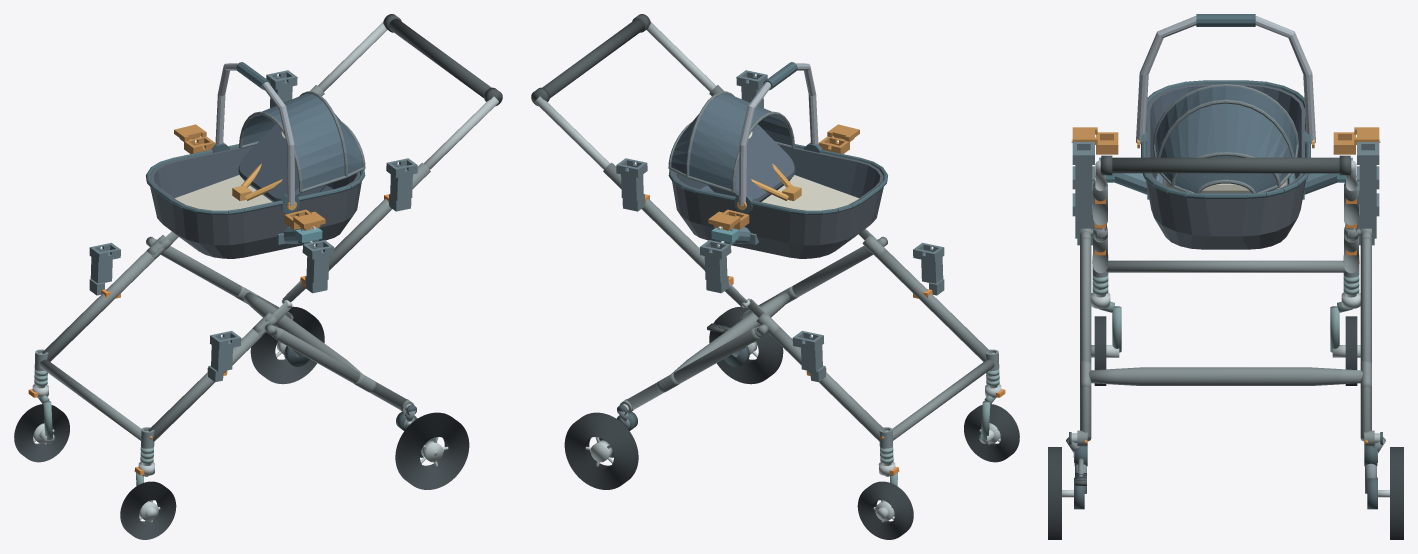
File: S07_w650_state1_wheel_S.glb
3 views of the same model, side by side, from view 1: azimuth 30°, elevation 25°; view 2: azimuth 150°, elevation 25°; view 3: azimuth 270°, elevation 25° (orthographic). The views are drawn at different scales.
Visible parts, largest first — view 1: S07_Cabin, RL_tire.008, RR_tire.008, FL_tire.008, FR_tire.008, main_lower_1.009, round_handle.008, V46_rear_leg_-1.009, main_lower_-1.009, front_fixed_round_tube.008, main_upper_-1.009, V46_rearbar.009 (+11 smaller); view 2: S07_Cabin, RR_tire.008, FR_tire.008, RL_tire.008, FL_tire.008, main_lower_-1.009, round_handle.008, V46_rear_leg_1.009, main_lower_1.009, front_fixed_round_tube.008, main_upper_1.009, V46_rearbar.009 (+11 smaller); view 3: S07_Cabin, V46_rearbar.009, round_handle.008, front_fixed_round_tube.008, V46_rear_leg_1.009, V46_rear_leg_-1.009, S07_Cabin_Mount_M, RL_tire.008, RR_tire.008, Universal_Cabin_Receiver_H_1, Universal_Cabin_Receiver_H_-1, D02_WideAdapter_M_-1 (+9 smaller).
Part boxes in pixels (box(x1,y1,x2,y2)): S07_Cabin: box(146, 62, 365, 258); RL_tire.008: box(395, 412, 469, 489); RR_tire.008: box(250, 306, 324, 384); FL_tire.008: box(120, 481, 176, 539); FR_tire.008: box(14, 404, 69, 462); main_lower_1.009: box(42, 247, 163, 361); round_handle.008: box(389, 18, 501, 104); V46_rear_leg_-1.009: box(273, 328, 406, 409); main_lower_-1.009: box(148, 328, 264, 441); front_fixed_round_tube.008: box(39, 359, 141, 440); main_upper_-1.009: box(329, 162, 430, 270); V46_rearbar.009: box(243, 292, 362, 373); S07_Cabin: box(668, 62, 887, 258); RR_tire.008: box(564, 412, 638, 489); FR_tire.008: box(857, 481, 913, 539); RL_tire.008: box(709, 306, 783, 384); FL_tire.008: box(964, 404, 1019, 462); main_lower_-1.009: box(870, 247, 991, 361); round_handle.008: box(532, 18, 644, 104); V46_rear_leg_1.009: box(627, 328, 760, 409); main_lower_1.009: box(769, 328, 885, 441); front_fixed_round_tube.008: box(892, 359, 994, 440); main_upper_1.009: box(603, 162, 704, 270); V46_rearbar.009: box(671, 292, 790, 373); S07_Cabin: box(1136, 14, 1315, 249); V46_rearbar.009: box(1089, 367, 1362, 385); round_handle.008: box(1100, 157, 1351, 173); front_fixed_round_tube.008: box(1106, 260, 1345, 272); V46_rear_leg_1.009: box(1360, 237, 1371, 441); V46_rear_leg_-1.009: box(1080, 237, 1091, 441); S07_Cabin_Mount_M: box(1095, 157, 1356, 199); RL_tire.008: box(1048, 447, 1061, 539); RR_tire.008: box(1390, 447, 1403, 539); Universal_Cabin_Receiver_H_1: box(1357, 142, 1379, 204); Universal_Cabin_Receiver_H_-1: box(1072, 142, 1094, 204); D02_WideAdapter_M_-1: box(1071, 127, 1118, 154).
Size of the model in its own units: 1.12 by 1.09 by 0.766.
